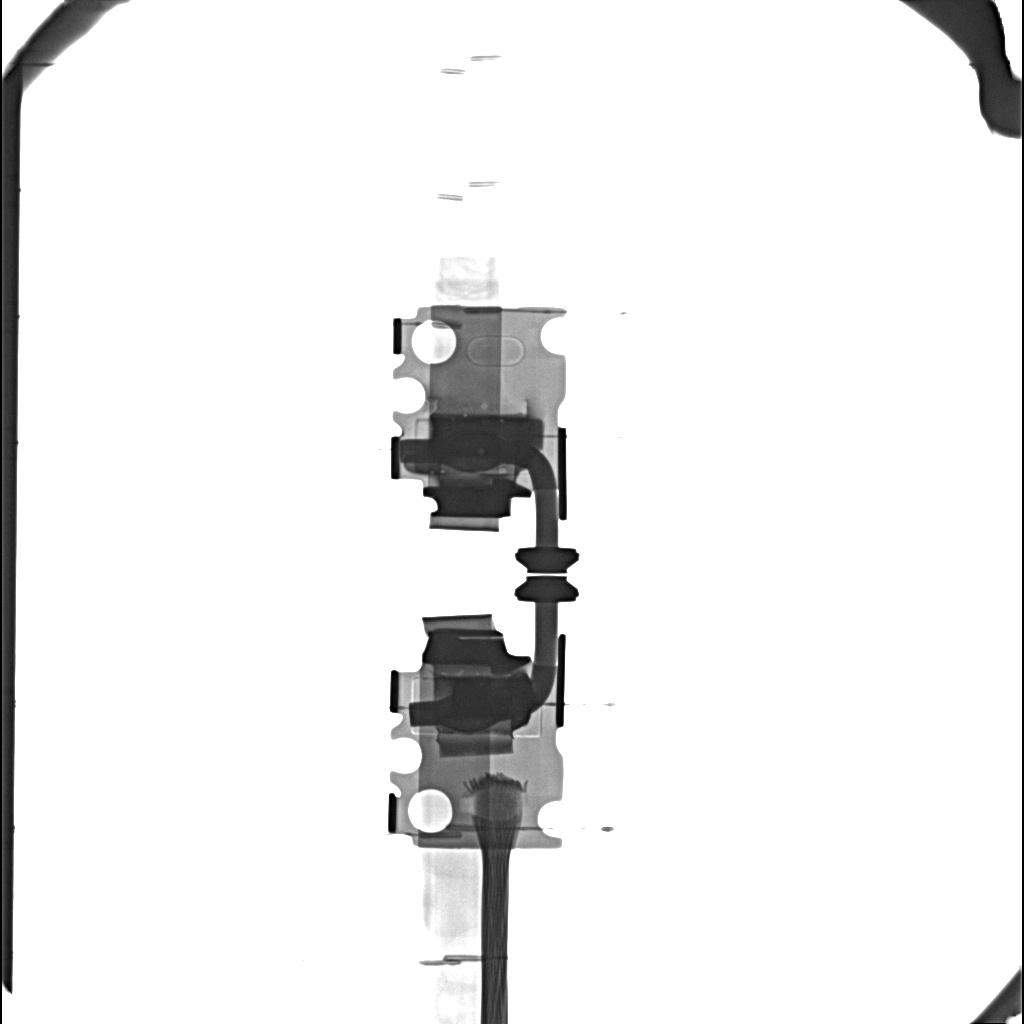defect: (430, 416, 540, 459), (453, 677, 532, 716), (437, 729, 515, 757)
